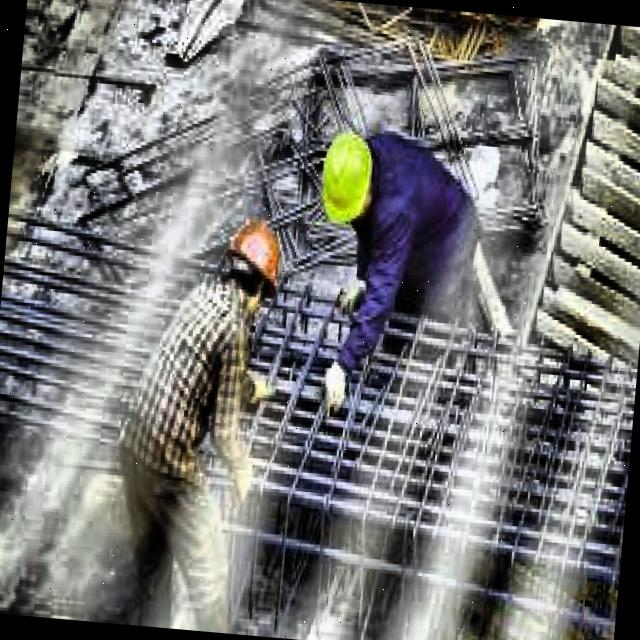helmet: (214, 213, 288, 331), (311, 122, 382, 230)
